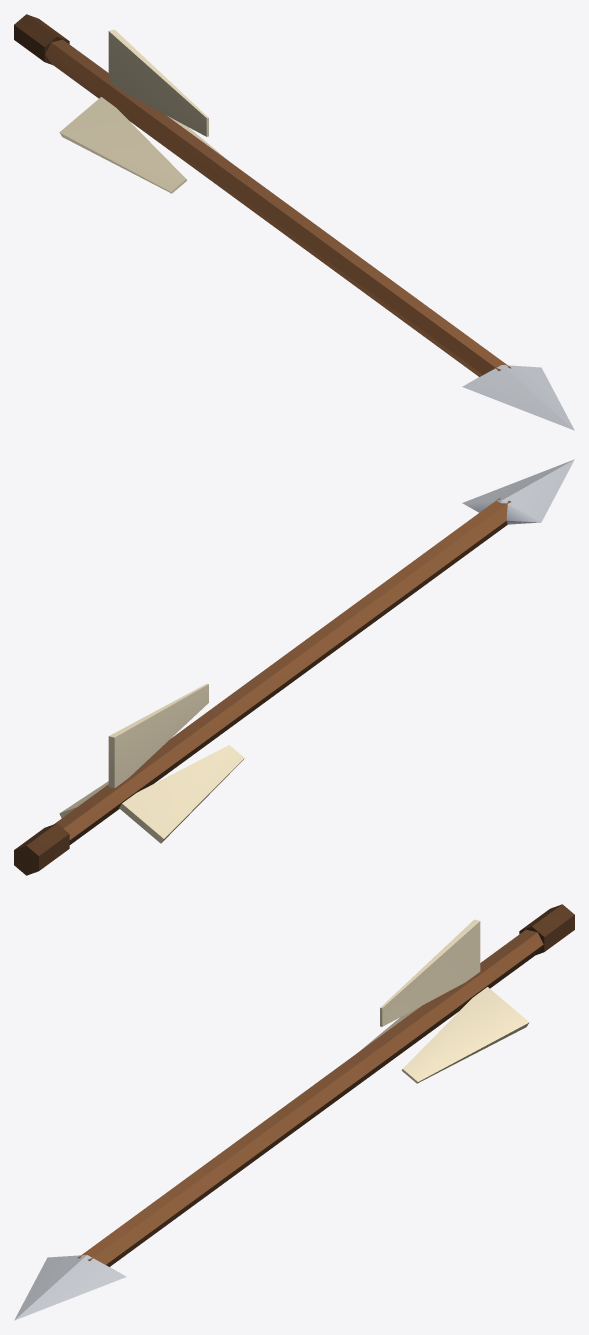
The model's file is CatRanger_Arrow.glb.
The picture shows the model from 3 angles, top to bottom: view 1: azimuth 30°, elevation 25°; view 2: azimuth 150°, elevation 25°; view 3: azimuth 330°, elevation 25°; orthographic projection.
Parts seen in each view (by area): view 1: SM_CatArrow; view 2: SM_CatArrow; view 3: SM_CatArrow.
Part boxes in pixels (x1,y1,x2,y2): SM_CatArrow: [14, 14, 574, 430]; SM_CatArrow: [14, 459, 574, 875]; SM_CatArrow: [14, 904, 574, 1320].
Size of the model in its own units: 0.0553 by 0.0479 by 0.502.
Materials: 1 (1 with a texture image).
